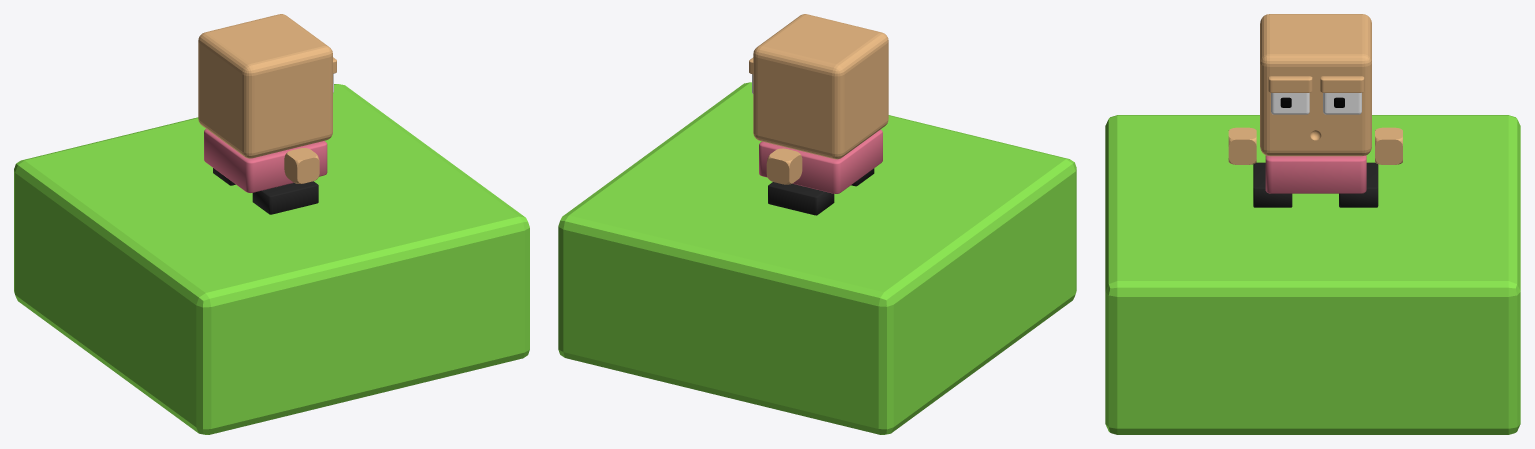
Rendered from earther.glb.
3 views of the same model, side by side, from view 1: azimuth 30°, elevation 25°; view 2: azimuth 150°, elevation 25°; view 3: azimuth 270°, elevation 25° (orthographic). The views are drawn at different scales.
Visible parts, largest first — view 1: Cube.013, Cube, Cube.001, Cube.002, Cube.003; view 2: Cube.013, Cube, Cube.001, Cube.004, Cube.015; view 3: Cube.013, Cube, Cube.001, Cube.003, Cube.015, Cube.002, Cube.004, Cube.009, Cube.010, Cube.005, Cube.006.
Part boxes in pixels (x1,y1,x2,y2): Cube.013: [14, 84, 529, 434]; Cube: [198, 14, 332, 158]; Cube.001: [204, 129, 327, 193]; Cube.002: [252, 181, 318, 214]; Cube.003: [284, 148, 319, 183]; Cube.013: [558, 82, 1076, 434]; Cube: [753, 14, 888, 159]; Cube.001: [759, 129, 882, 193]; Cube.004: [768, 182, 834, 215]; Cube.015: [766, 148, 802, 184]; Cube.013: [1105, 115, 1520, 434]; Cube: [1260, 14, 1371, 156]; Cube.001: [1265, 155, 1366, 193]; Cube.003: [1228, 127, 1256, 164]; Cube.015: [1375, 127, 1402, 164]; Cube.002: [1253, 162, 1292, 207]; Cube.004: [1339, 162, 1378, 207]; Cube.009: [1268, 76, 1312, 92]; Cube.010: [1320, 76, 1364, 92]; Cube.005: [1271, 93, 1309, 114]; Cube.006: [1323, 92, 1361, 114].
Size of the model in its own units: 0.7419 by 0.6205 by 0.7419.
